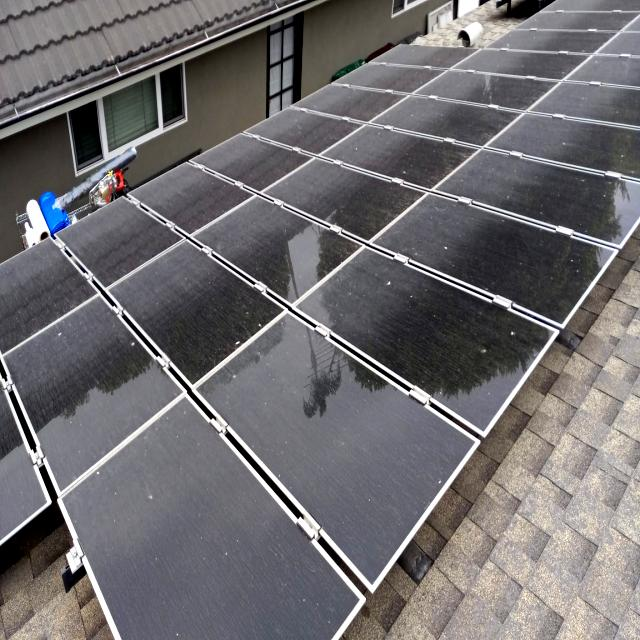dust: (340, 304, 490, 521), (410, 70, 608, 218), (80, 218, 207, 414), (112, 476, 240, 640), (212, 344, 324, 462), (197, 153, 354, 233), (256, 524, 335, 640), (361, 258, 490, 306), (1, 239, 58, 329), (550, 242, 588, 292)
